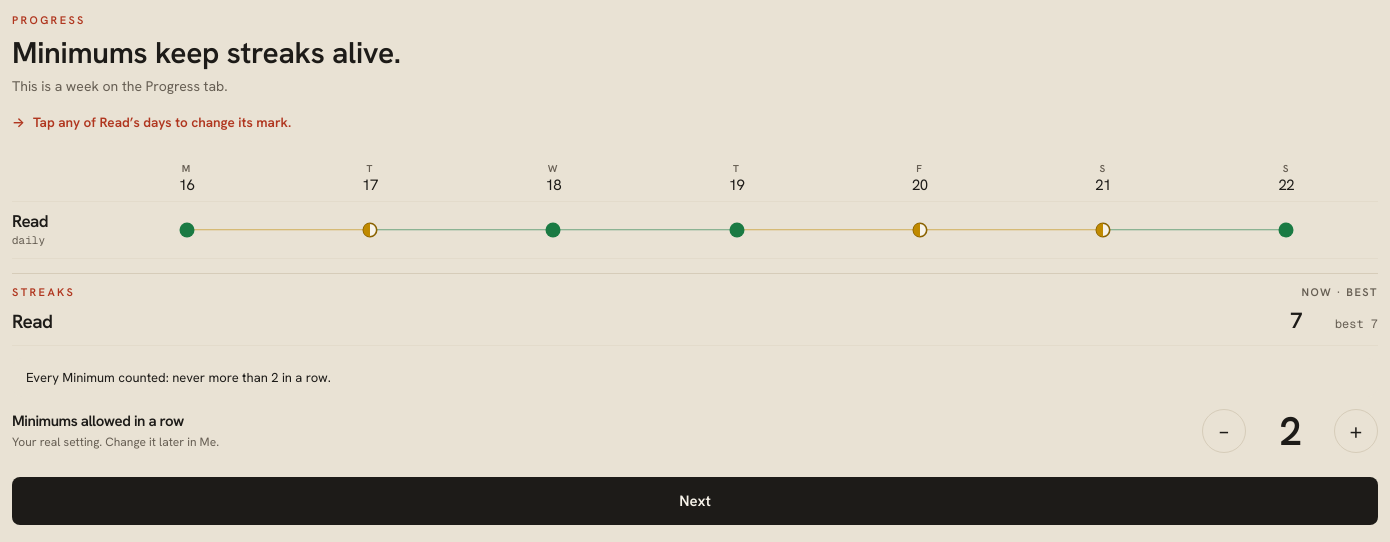
Scenario: PlaygroundStep › cycles a day and explains the streak
What coordinates should you click on to do the following:
click the button named "Read, Wed 18: Target hit"
I would click on:
 (553, 230)
Its box is [462,208,645,252].
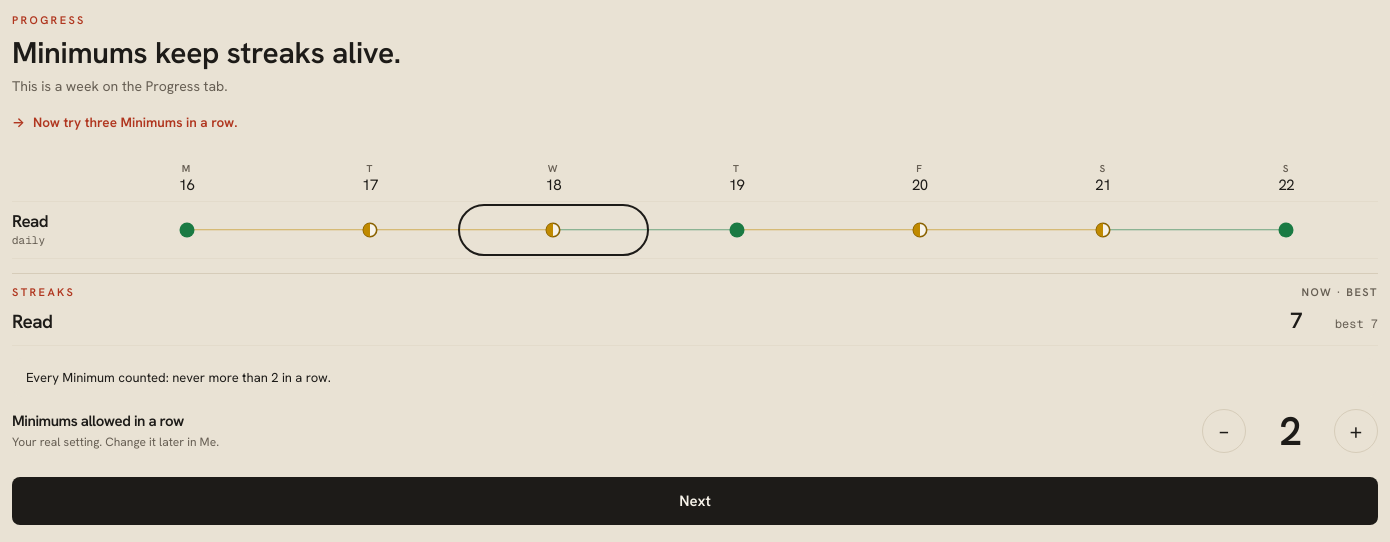
What coordinates should you click on to do the following:
click the button named "Read, Wed 18: Minimum done"
I would click on:
 (553, 230)
Its box is [462,208,645,252].
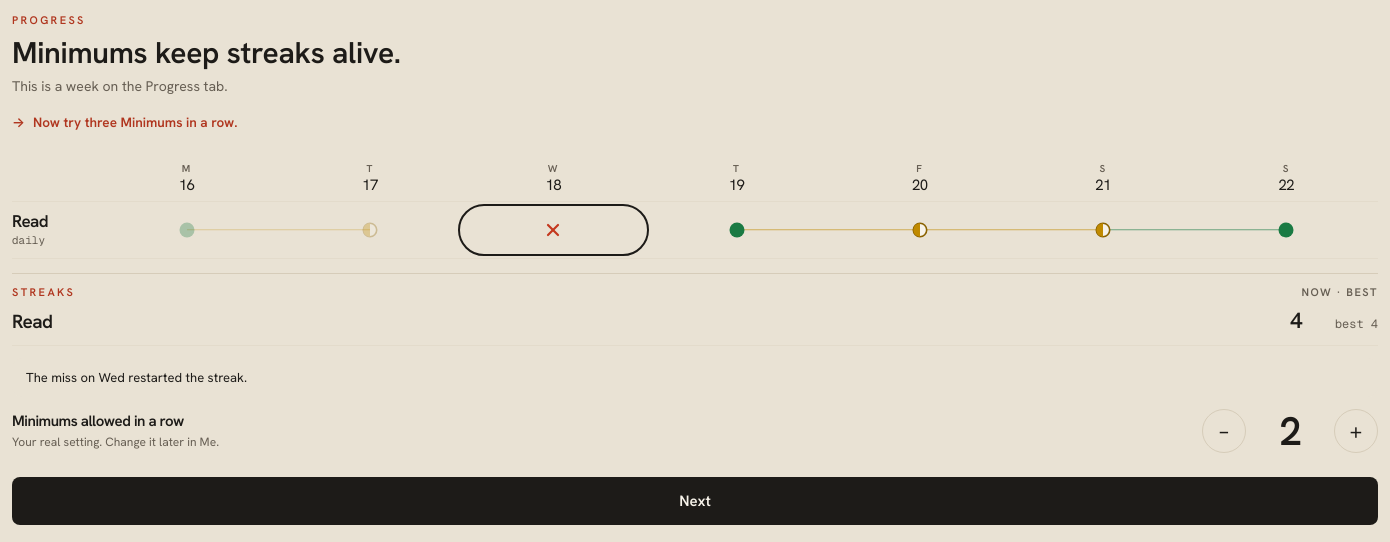
expect the button named "Read, Wed 18: Missed" is shown: met, box [462,208,645,252]
expect the text "The miss on Wed restarted the streak." is shown: met, box [12,358,1378,397]
